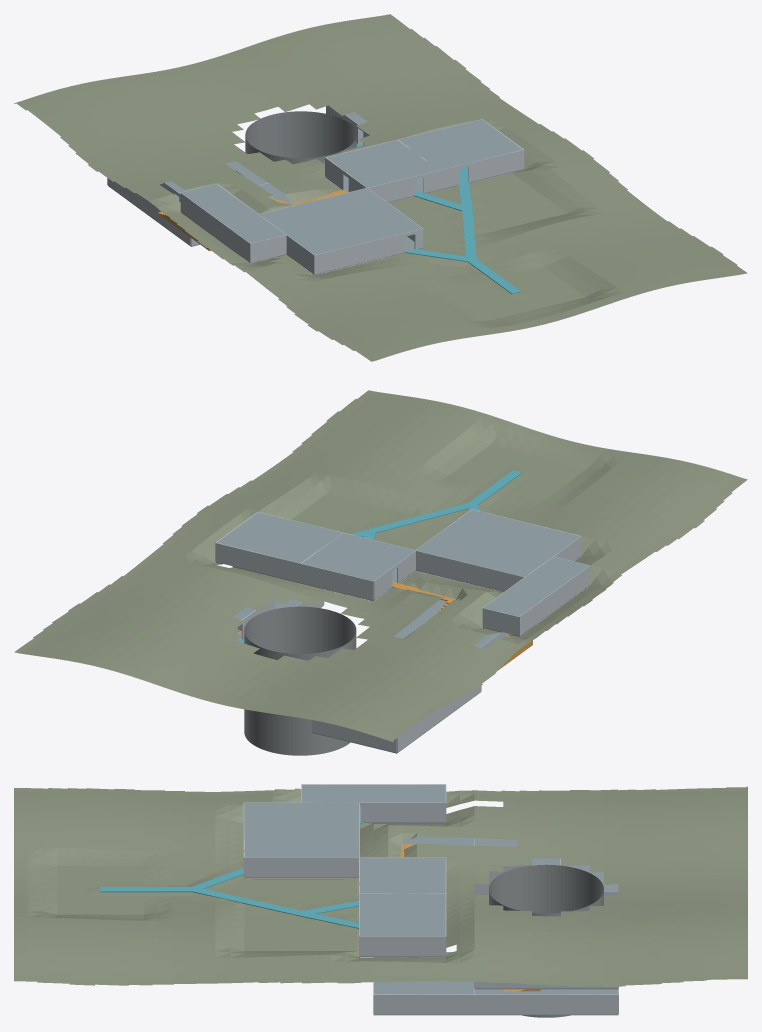
Rendered from supported-stairs.glb.
The picture shows the model from 3 angles, top to bottom: view 1: azimuth 30°, elevation 25°; view 2: azimuth 150°, elevation 25°; view 3: azimuth 270°, elevation 25°; orthographic projection. The views are drawn at different scales.
Parts seen in each view (by area): view 1: Saved editor terrain WLD-18, Ceiling cap servicehouse, EMPTY SHAFT / guard engineering pending, Ceiling cap shop, Ceiling cap head, Ceiling cap exit, Wall servicehouse S, Wall exit W, Wall shop S.001, Wall head S, Wall exit S, Wall servicehouse W.001; view 2: Saved editor terrain WLD-18, EMPTY SHAFT / guard engineering pending, Ceiling cap servicehouse, Ceiling cap shop, Ceiling cap head, Ceiling cap exit, Wall servicehouse N, Wall shop N, Wall head N, Wall exit W, Wall pump N, Wall exit N (+2 smaller); view 3: Saved editor terrain WLD-18, Ceiling cap servicehouse, EMPTY SHAFT / guard engineering pending, Ceiling cap shop, Ceiling cap head, Wall east E, Ceiling cap exit, Wall servicehouse E, Wall plant E, Wall shop E, Wall exit E, Ceiling cap plant (+4 smaller).
Part boxes in pixels (x1=…): Saved editor terrain WLD-18: x1=14, y1=14, x2=747, y2=361; Ceiling cap servicehouse: x1=259, y1=188, x2=422, y2=254; EMPTY SHAFT / guard engineering pending: x1=245, y1=111, x2=356, y2=256; Ceiling cap shop: x1=399, y1=119, x2=522, y2=170; Ceiling cap head: x1=326, y1=140, x2=438, y2=187; Ceiling cap exit: x1=181, y1=184, x2=285, y2=243; Wall servicehouse S: x1=314, y1=233, x2=406, y2=273; Wall exit W: x1=180, y1=193, x2=250, y2=262; Wall shop S.001: x1=468, y1=149, x2=524, y2=182; Wall head S: x1=368, y1=176, x2=414, y2=201; Wall exit S: x1=250, y1=234, x2=286, y2=262; Wall servicehouse W.001: x1=264, y1=218, x2=314, y2=273; Saved editor terrain WLD-18: x1=14, y1=390, x2=747, y2=742; EMPTY SHAFT / guard engineering pending: x1=244, y1=606, x2=356, y2=755; Ceiling cap servicehouse: x1=416, y1=509, x2=580, y2=576; Ceiling cap shop: x1=217, y1=512, x2=341, y2=563; Ceiling cap head: x1=302, y1=533, x2=415, y2=581; Ceiling cap exit: x1=483, y1=557, x2=589, y2=616; Wall servicehouse N: x1=416, y1=550, x2=523, y2=591; Wall shop N: x1=215, y1=542, x2=300, y2=582; Wall head N: x1=300, y1=563, x2=373, y2=600; Wall exit W: x1=519, y1=565, x2=589, y2=635; Wall pump N: x1=311, y1=720, x2=396, y2=752; Wall exit N: x1=482, y1=608, x2=519, y2=635; Saved editor terrain WLD-18: x1=14, y1=786, x2=747, y2=986; Ceiling cap servicehouse: x1=244, y1=802, x2=359, y2=857; EMPTY SHAFT / guard engineering pending: x1=489, y1=864, x2=603, y2=1017; Ceiling cap shop: x1=359, y1=894, x2=445, y2=936; Ceiling cap head: x1=359, y1=857, x2=445, y2=893; Wall east E: x1=474, y1=994, x2=618, y2=1014; Ceiling cap exit: x1=302, y1=784, x2=445, y2=802; Wall servicehouse E: x1=244, y1=857, x2=358, y2=877; Wall plant E: x1=373, y1=994, x2=474, y2=1014; Wall shop E: x1=359, y1=936, x2=445, y2=956; Wall exit E: x1=361, y1=802, x2=445, y2=822; Ceiling cap plant: x1=373, y1=952, x2=474, y2=994.
Size of the model in its own units: 64 by 19 by 102.
